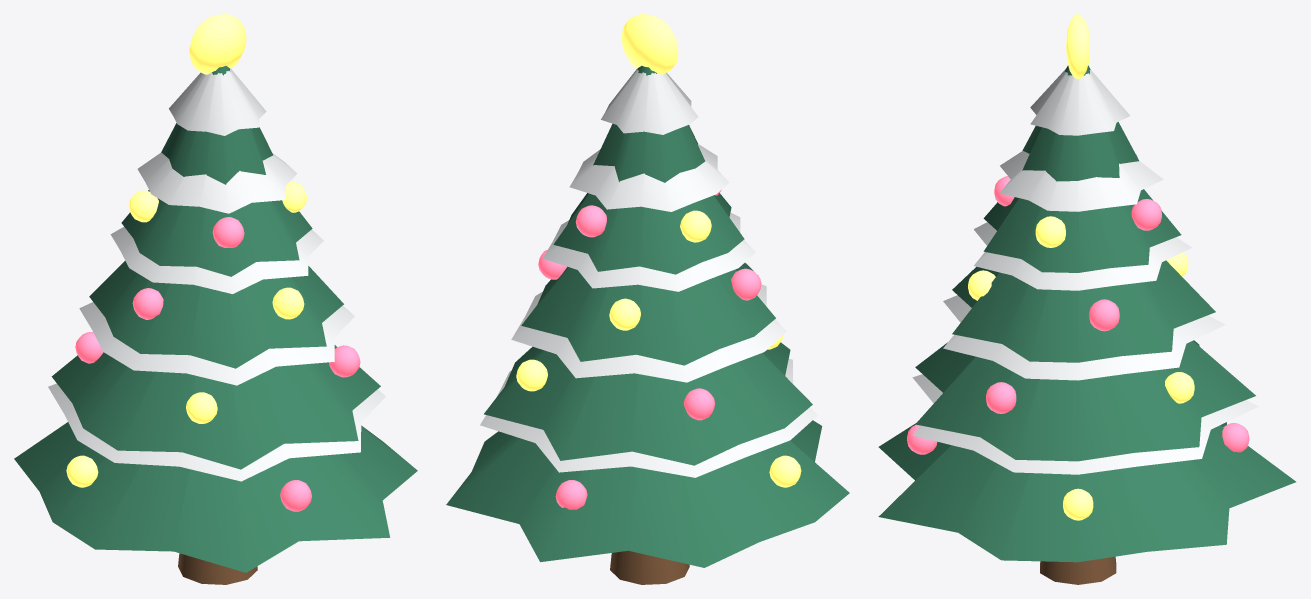
Rendered from pine-tree.glb.
3 views of the same model, side by side, from view 1: azimuth 30°, elevation 25°; view 2: azimuth 150°, elevation 25°; view 3: azimuth 270°, elevation 25° (orthographic).
Bounding box in the file's own units: 0.76 × 1.22 × 0.8367.
